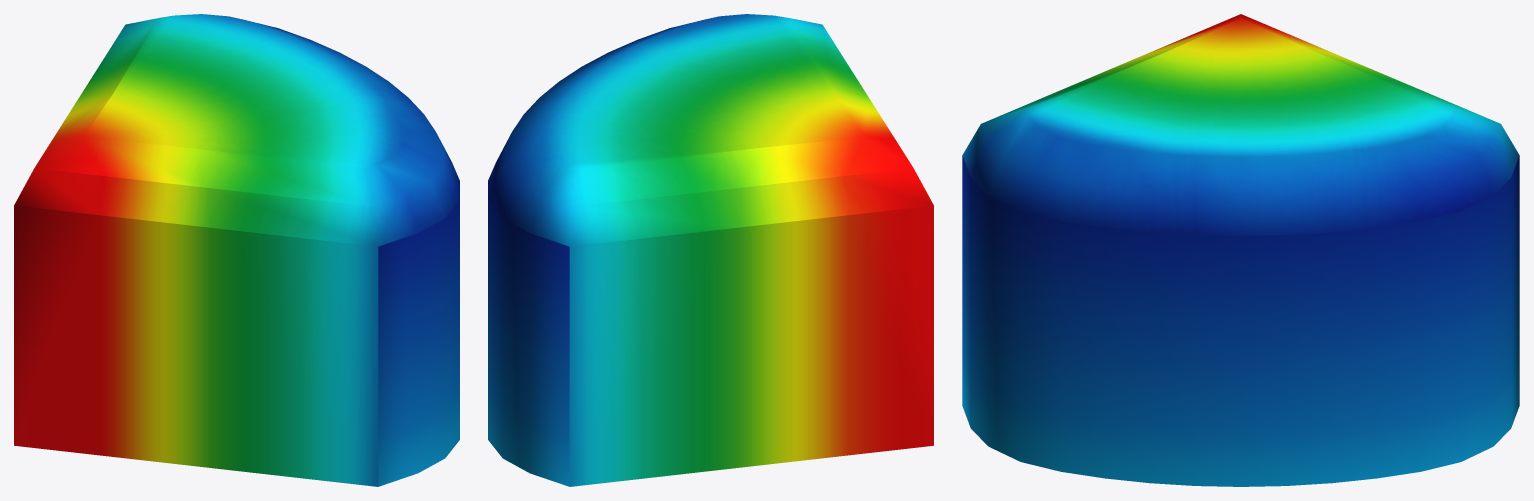
Rendered from model_BurbleFlower.fbx.
The picture shows the model from 3 angles, left to right: view 1: azimuth 30°, elevation 25°; view 2: azimuth 150°, elevation 25°; view 3: azimuth 270°, elevation 25°; orthographic projection. The views are drawn at different scales.
Parts seen in each view (by area): view 1: model_BurbleFlower; view 2: model_BurbleFlower; view 3: model_BurbleFlower.
Boxes of the visible parts, x1,y1,x2,y2 form: model_BurbleFlower: (14,14,459,486); model_BurbleFlower: (488,14,933,486); model_BurbleFlower: (962,14,1519,486).
Size of the model in its own units: 44.95 by 32.18 by 53.29.
